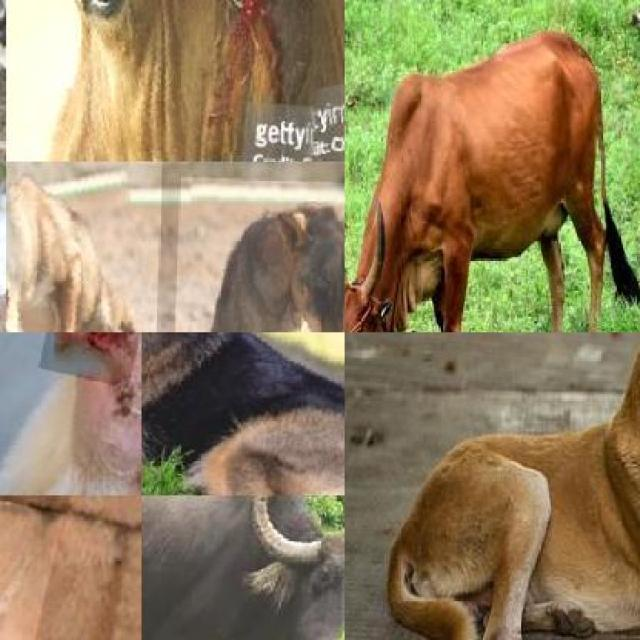buffalo: (142, 495, 344, 640)
cat: (0, 332, 142, 496)
cow: (345, 75, 632, 332), (6, 0, 345, 162)
dog: (409, 332, 640, 640), (142, 332, 344, 496), (169, 177, 345, 332), (6, 162, 163, 332)
injured: (188, 0, 338, 162), (38, 332, 142, 388), (52, 290, 145, 332)
